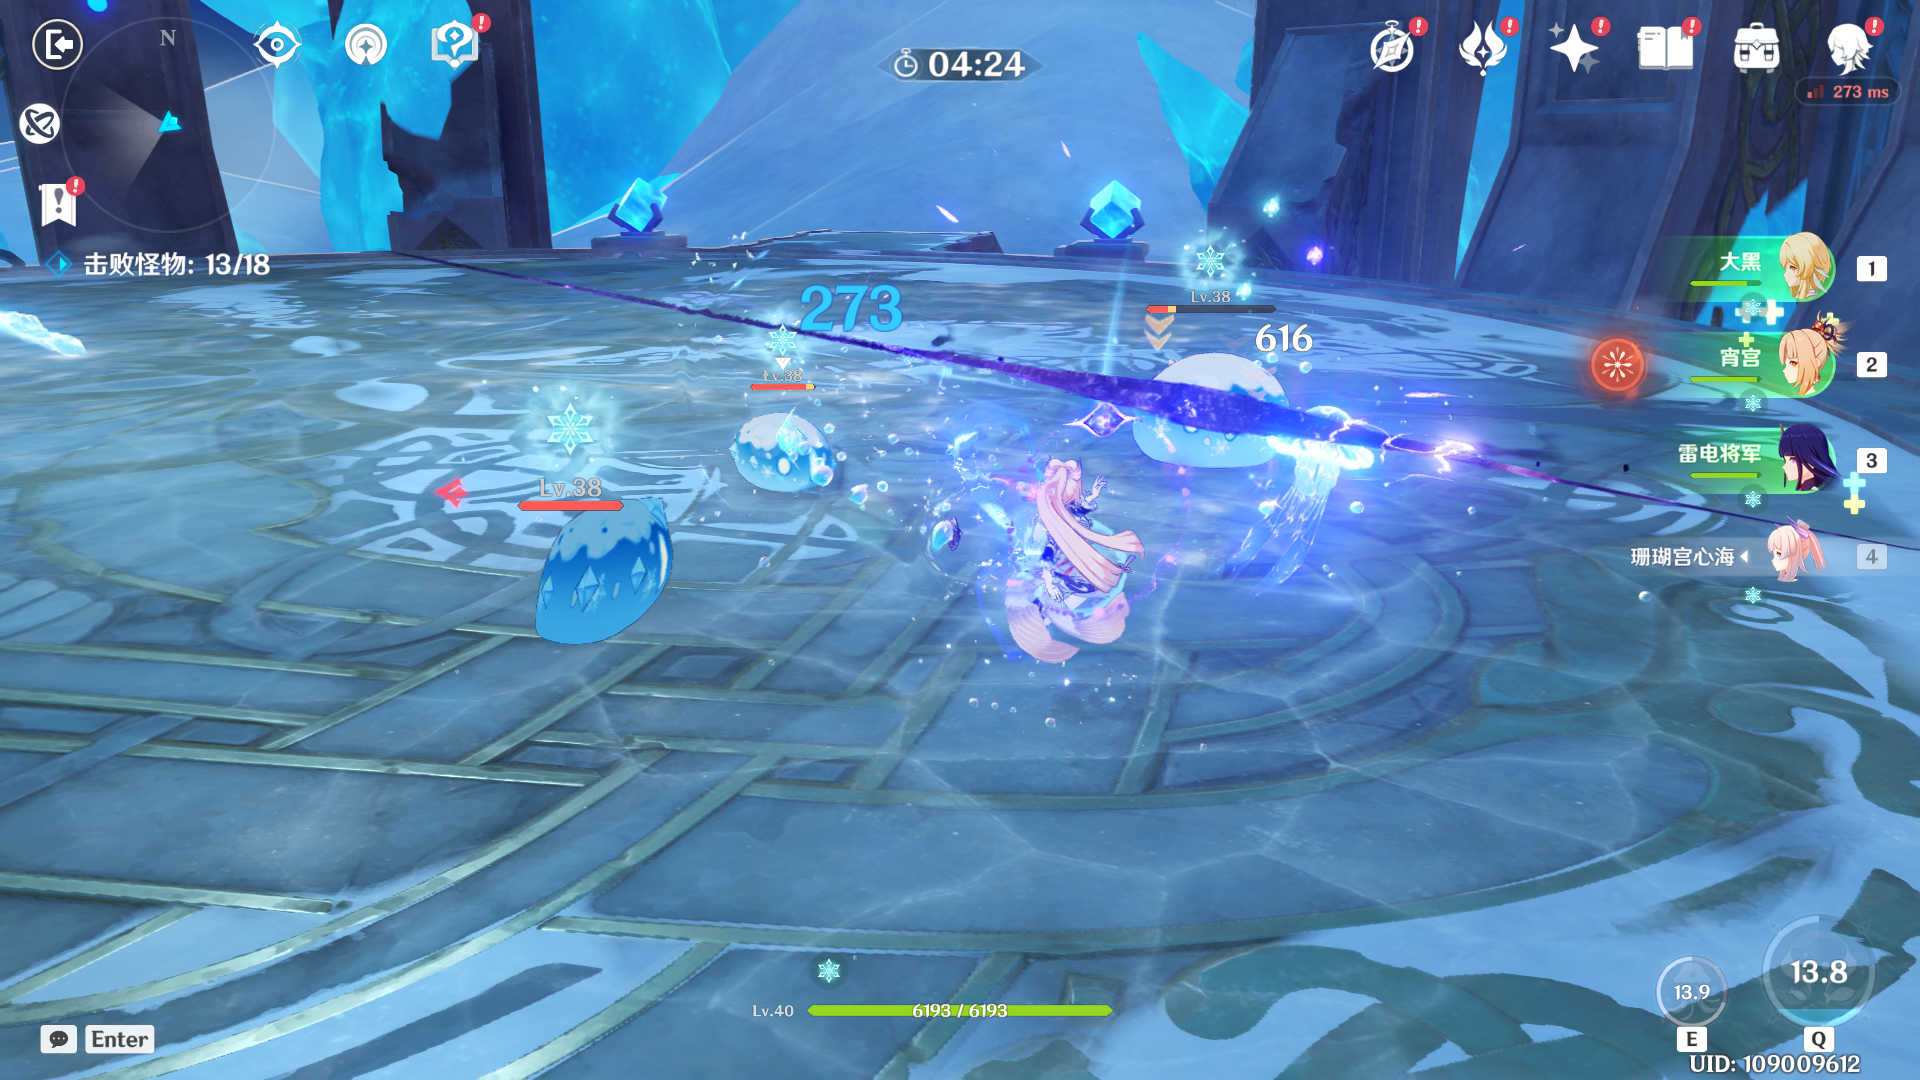character: (969, 448, 1166, 665)
slime: (475, 477, 702, 667), (1124, 342, 1307, 480), (723, 405, 837, 512)
